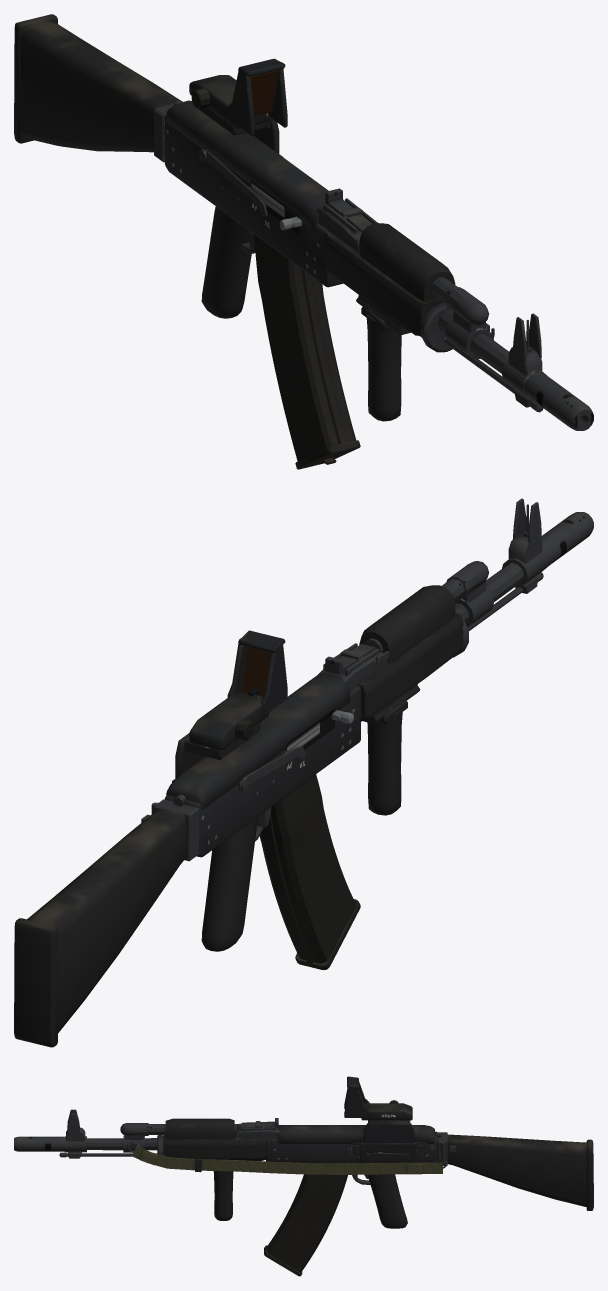
Rendered from ak74m_optic.glb.
3 renders of one model, top to bottom at view 1: azimuth 30°, elevation 25°; view 2: azimuth 150°, elevation 25°; view 3: azimuth 270°, elevation 25°, orthographic. The views are drawn at different scales.
Visible parts, largest first — view 1: ak74m_optic_mesh, magazine; view 2: ak74m_optic_mesh, magazine; view 3: ak74m_optic_mesh, magazine.
Part boxes in pixels (x1,y1,x2,y2): ak74m_optic_mesh: (14,14,593,430); magazine: (254,234,360,469); ak74m_optic_mesh: (14,498,593,1047); magazine: (259,774,360,970); ak74m_optic_mesh: (14,1076,593,1228); magazine: (264,1174,347,1276).
Size of what is drawn, in the model's own units: 0.0741 by 0.3513 by 0.96.
Materials: 1 (1 with a texture image).
